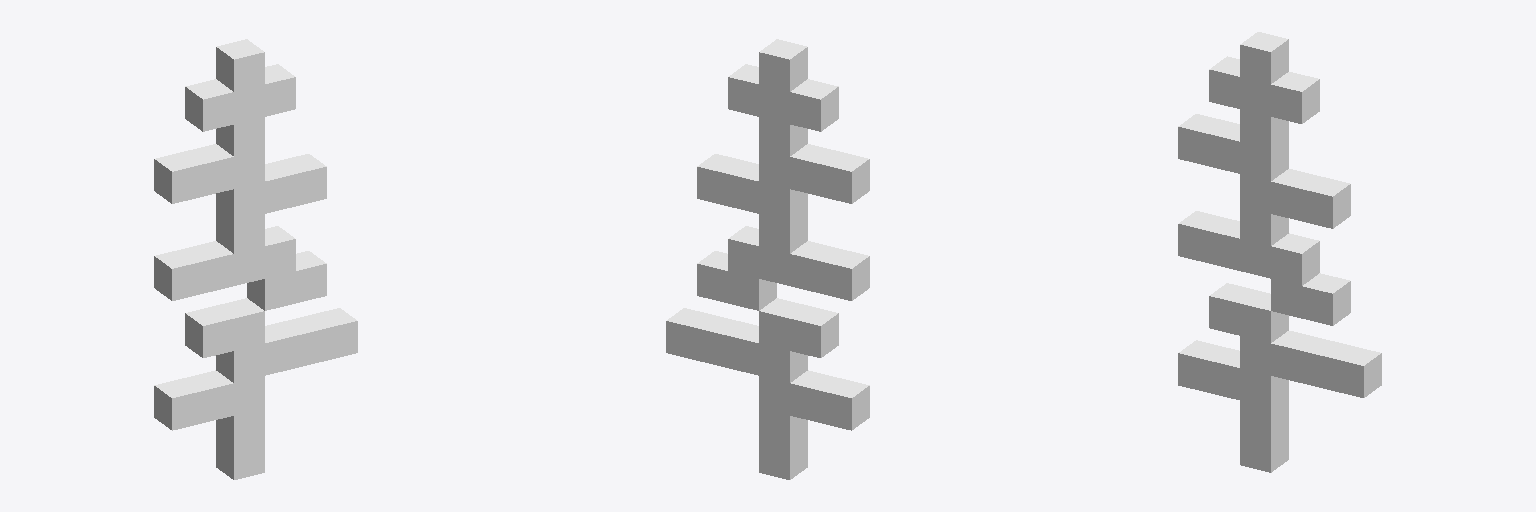
File: decor1.vox.obj
The picture shows the model from 3 angles: view 1: azimuth 30°, elevation 25°; view 2: azimuth 150°, elevation 25°; view 3: azimuth 330°, elevation 25°; orthographic projection.
Visible parts, largest first — view 1: object 1; view 2: object 1; view 3: object 1.
Part boxes in pixels (x1,y1,x2,y2): object 1: (154,39,357,479); object 1: (666,39,869,479); object 1: (1178,32,1381,472).
Size of the model in its own units: 0.6 by 1.3 by 0.1.